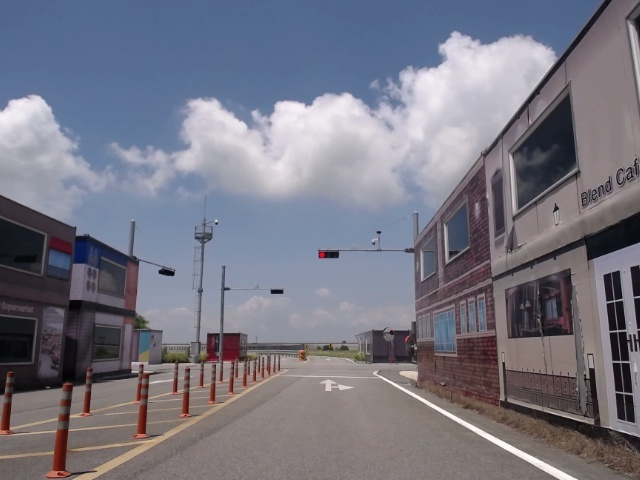red_3: (317, 250, 339, 259)
